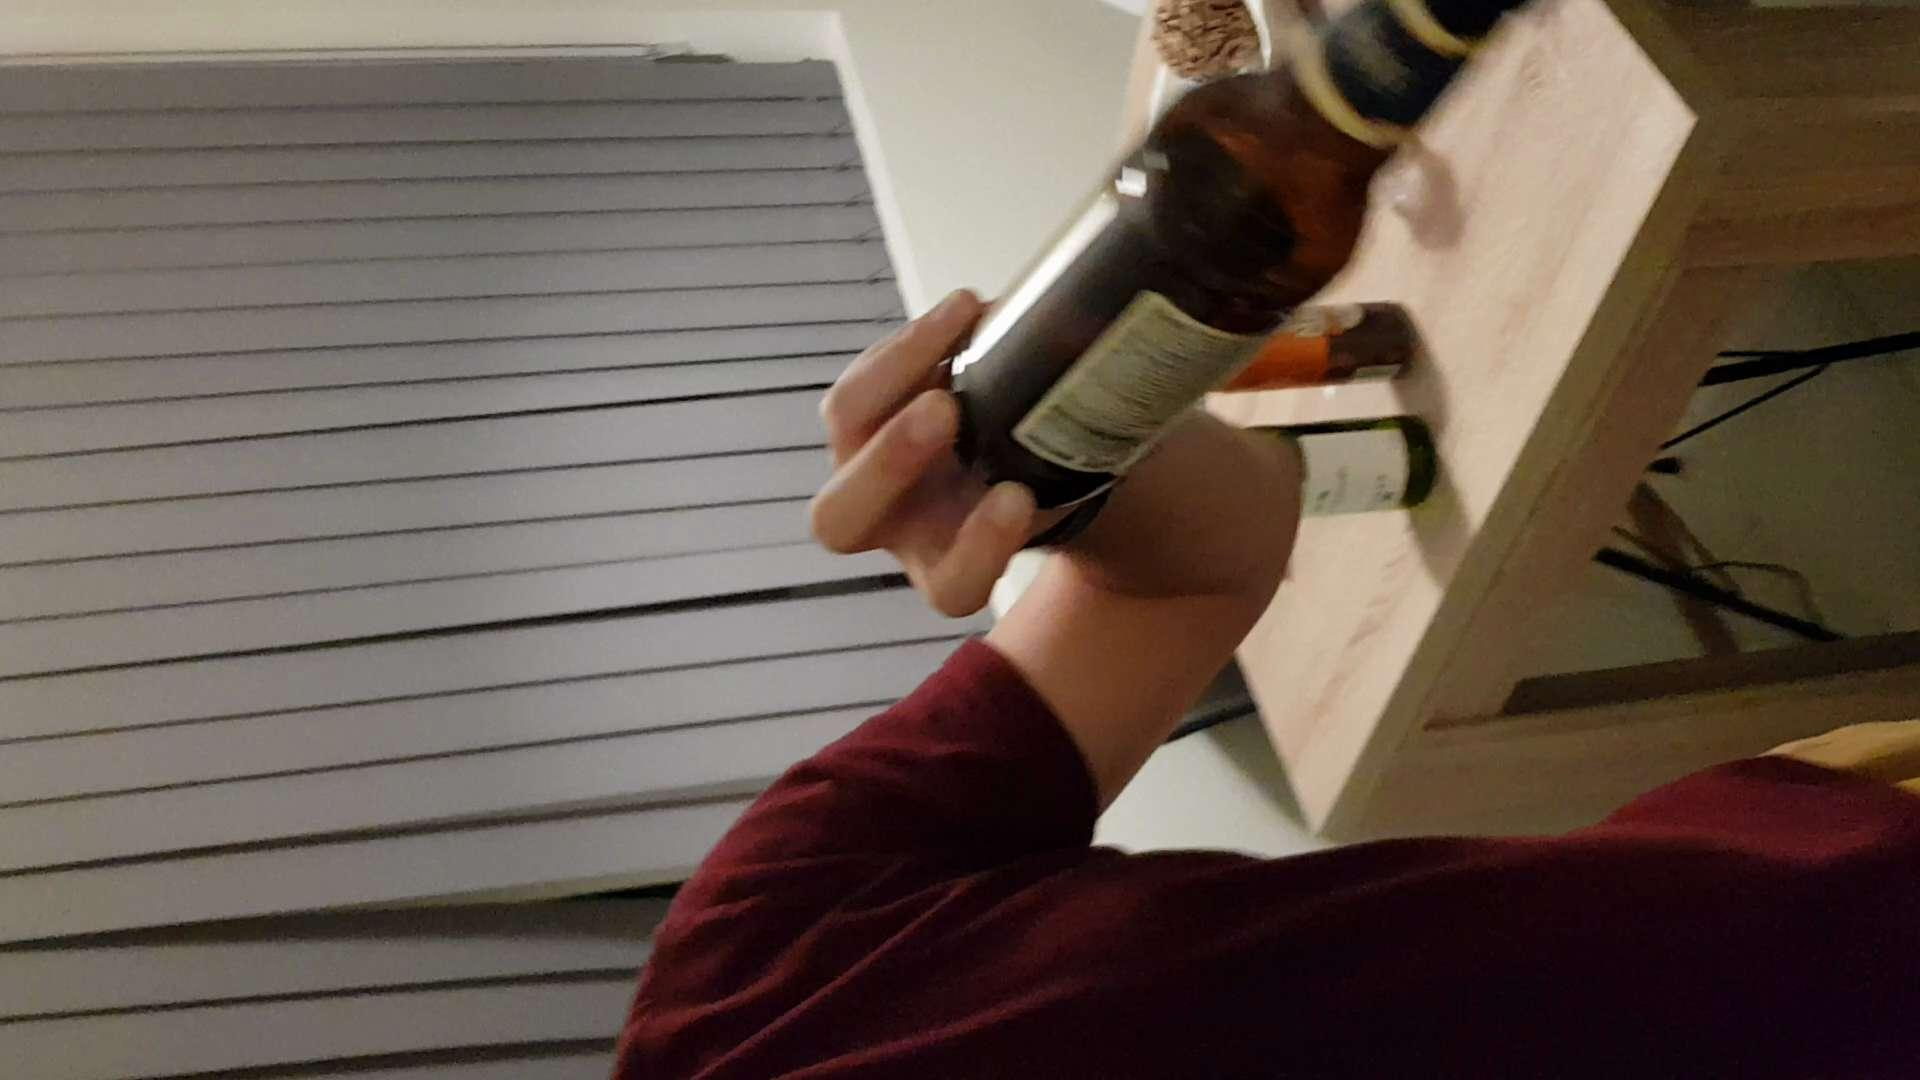Bottle: (934, 0, 1530, 510)
